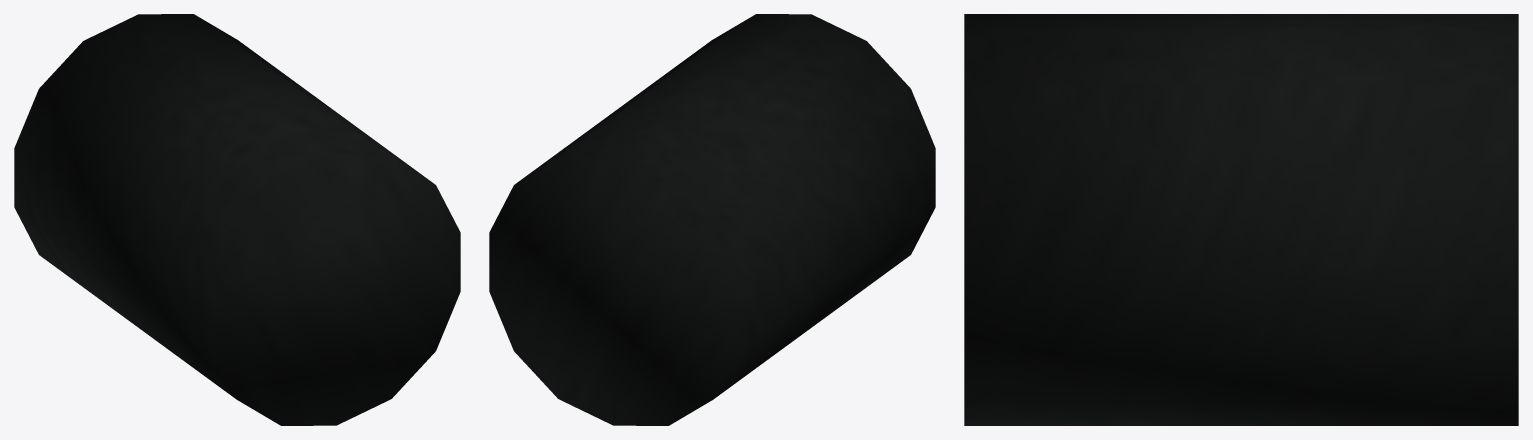
3 renders of one model, left to right at view 1: azimuth 30°, elevation 25°; view 2: azimuth 150°, elevation 25°; view 3: azimuth 270°, elevation 25°, orthographic. The views are drawn at different scales.
Bounding box in the file's own units: 0.2535 × 0.26 × 0.35.
Materials: 1 (1 with a texture image).
